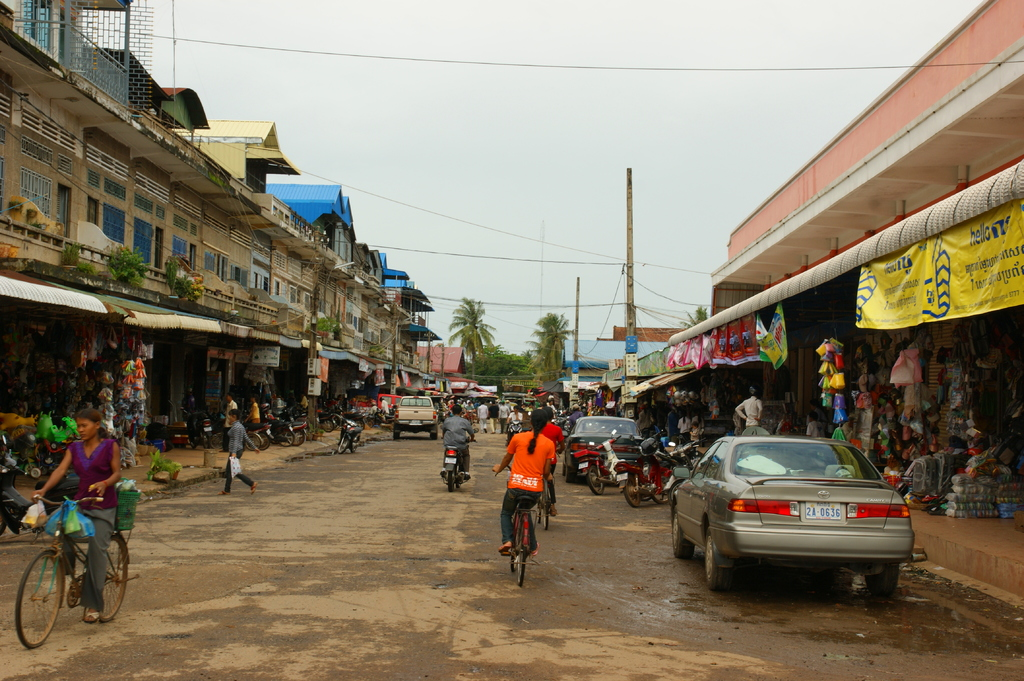Car: (672, 432, 917, 592), (562, 414, 646, 483)
